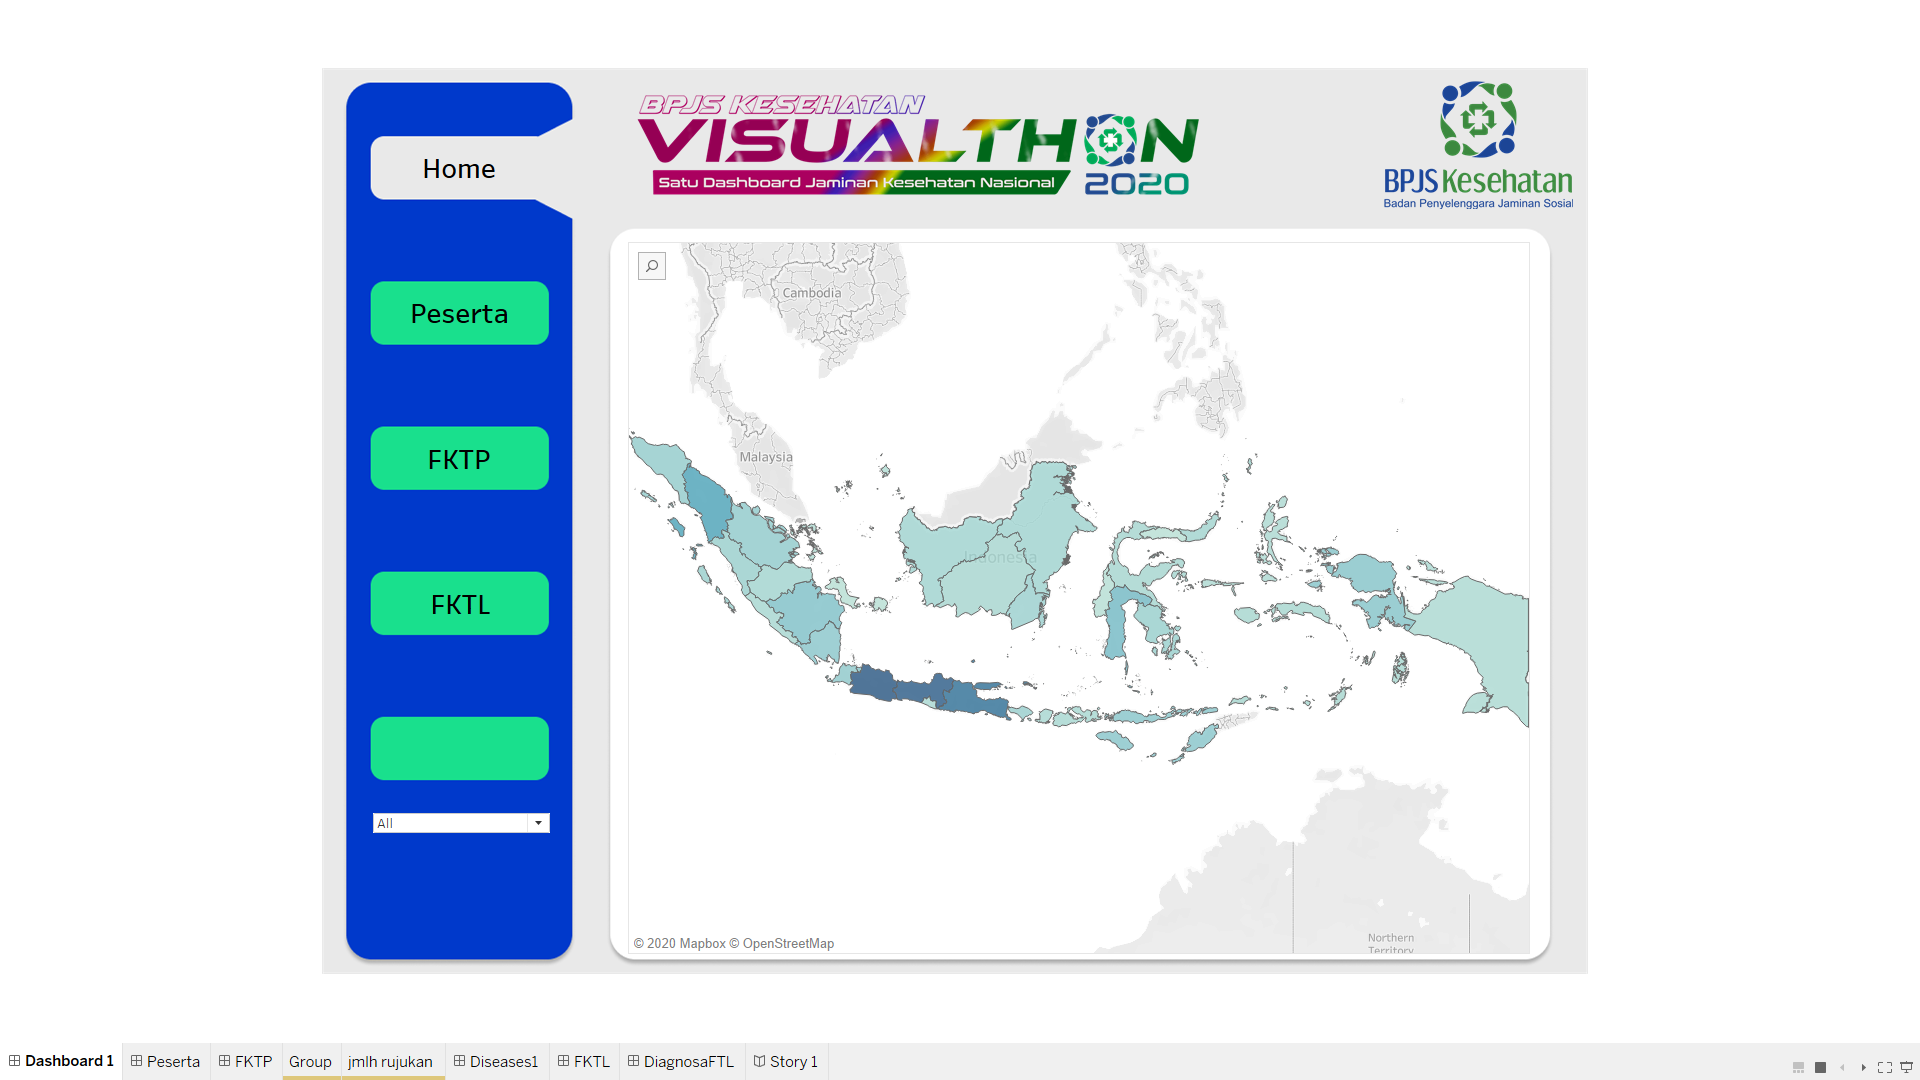

Layout of this report page (visuals, bound fields, positions):
{"tool":"tableau","page":{"name":"Dashboard 1","canvas":[1300,930],"ordinal":0},"visuals":[{"type":"image","param":"C:/Users/fikri/Desktop/pyproj/drive-download-20201208T124209Z-001/New folder/1.p","box":[8,8,1284,914]},{"type":"image","param":"C:/Users/fikri/Desktop/pyproj/drive-download-20201208T124209Z-001/logo-bpjs2-min","box":[299,10,759,162]},{"type":"image","param":"C:/Users/fikri/Desktop/pyproj/drive-download-20201208T124209Z-001/New folder/BPJ","box":[1074,15,189,149]},{"type":"text","box":[61,79,176,65]},{"type":"worksheet","title":"MAPPING","mark":"Multipolygon","box":[318,186,902,712]},{"type":"dashboard-object","box":[58,224,185,69]},{"type":"text","box":[61,224,177,64]},{"type":"dashboard-object","box":[57,366,181,69]},{"type":"text","box":[61,369,176,67]},{"type":"dashboard-object","box":[58,514,181,68]},{"type":"text","box":[61,515,179,65]},{"type":"text","box":[59,660,181,65]},{"type":"parameter","param":"[Parameters].[Parameter 1]","box":[60,754,183,63]}]}

Visuals, with their boxes on the page's 1300x930 design canvas (x1, y1, x2, y2). These are canvas units, not pixel positions in the 1920x1080 screenshot, which may show the page scaled, cropped or inside an application window:
image: <box>8,8,1292,922</box>
image: <box>299,10,1058,172</box>
image: <box>1074,15,1263,164</box>
text: <box>61,79,237,144</box>
"MAPPING" worksheet (Multipolygon marks): <box>318,186,1220,898</box>
dashboard-object: <box>58,224,243,293</box>
text: <box>61,224,238,288</box>
dashboard-object: <box>57,366,238,435</box>
text: <box>61,369,237,436</box>
dashboard-object: <box>58,514,239,582</box>
text: <box>61,515,240,580</box>
text: <box>59,660,240,725</box>
parameter: <box>60,754,243,817</box>
